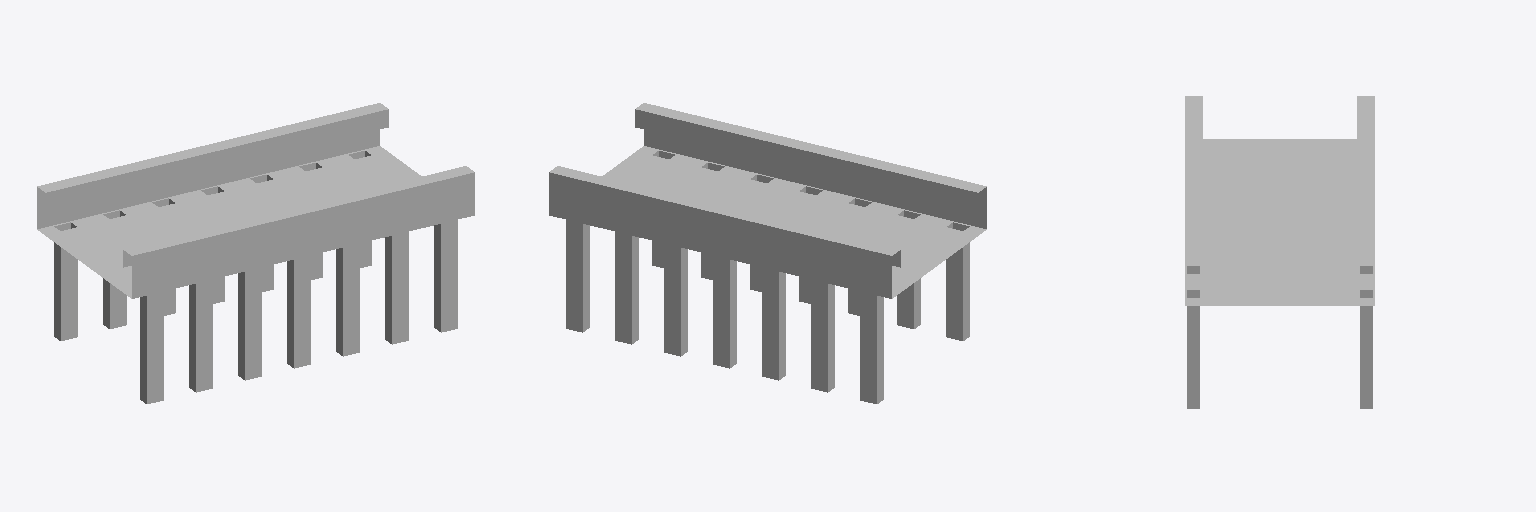
The model's file is bridgeedge.obj.
3 renders of one model, left to right at view 1: azimuth 30°, elevation 25°; view 2: azimuth 150°, elevation 25°; view 3: azimuth 270°, elevation 25°, orthographic.
Visible parts, largest first — view 1: polySurface5 bridge:pCube14; view 2: polySurface5 bridge:pCube14; view 3: polySurface5 bridge:pCube14.
Part boxes in pixels (bbox=[...]): polySurface5 bridge:pCube14: bbox=[37, 103, 474, 403]; polySurface5 bridge:pCube14: bbox=[549, 103, 986, 403]; polySurface5 bridge:pCube14: bbox=[1185, 96, 1374, 408].
Bounding box in the file's own units: 2.5 × 1.07 × 1.2.